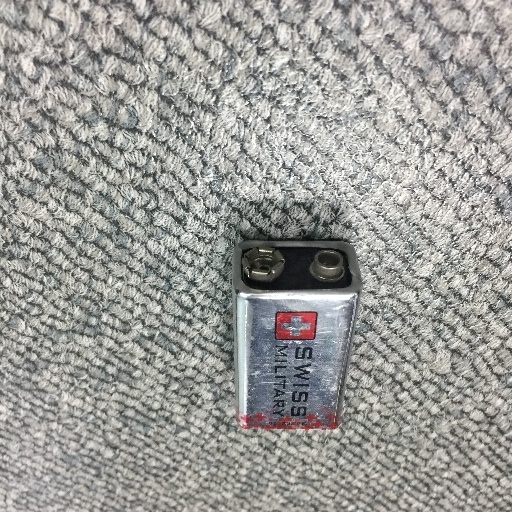Battery_3: (217, 220, 372, 452)
